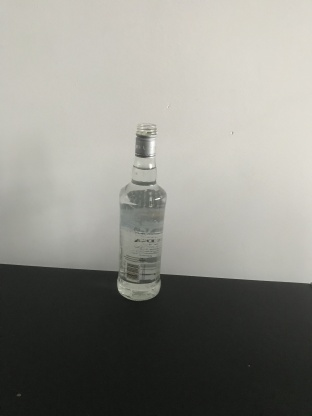nakretka: (133, 124, 158, 159)
